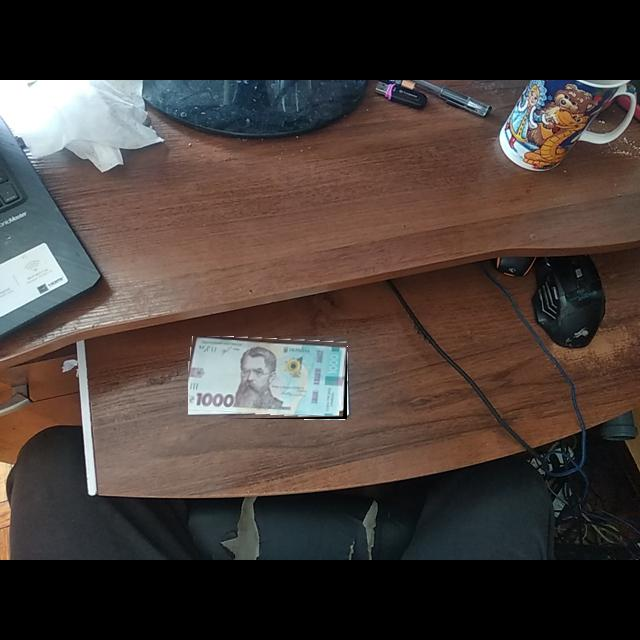1000uah: (188, 337, 348, 418)
